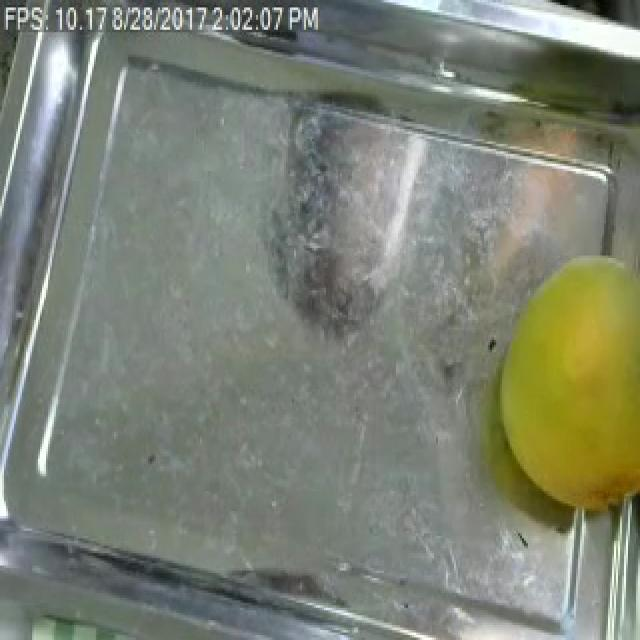fruit: (472, 223, 640, 531)
